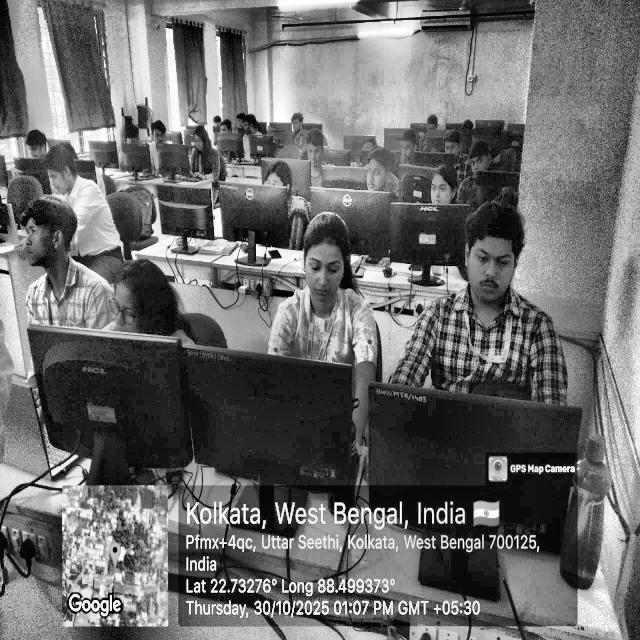Focus: (456, 198, 542, 355), (4, 188, 99, 316), (290, 211, 354, 324), (90, 258, 174, 334), (256, 152, 309, 259), (36, 122, 82, 206), (286, 104, 334, 180), (390, 100, 438, 170), (420, 152, 460, 234), (465, 124, 503, 190), (193, 116, 230, 178)
Not Focus: (364, 148, 402, 221), (28, 127, 64, 185), (145, 116, 171, 159)
